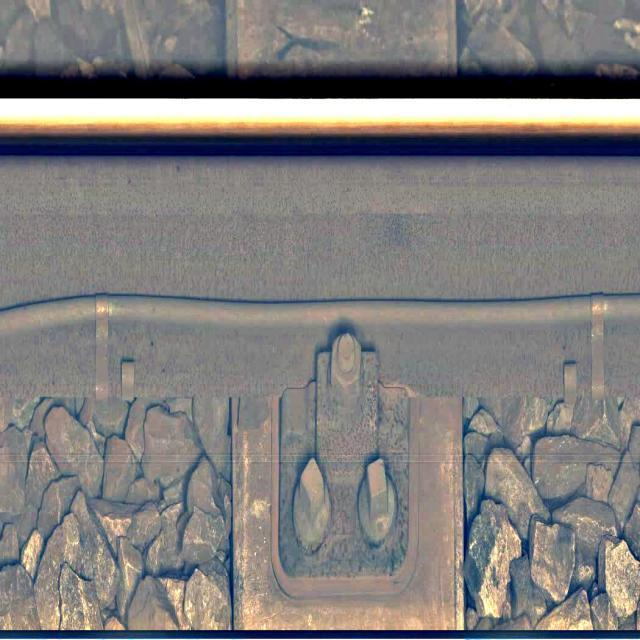Good Fasteners: (274, 330, 416, 598)
